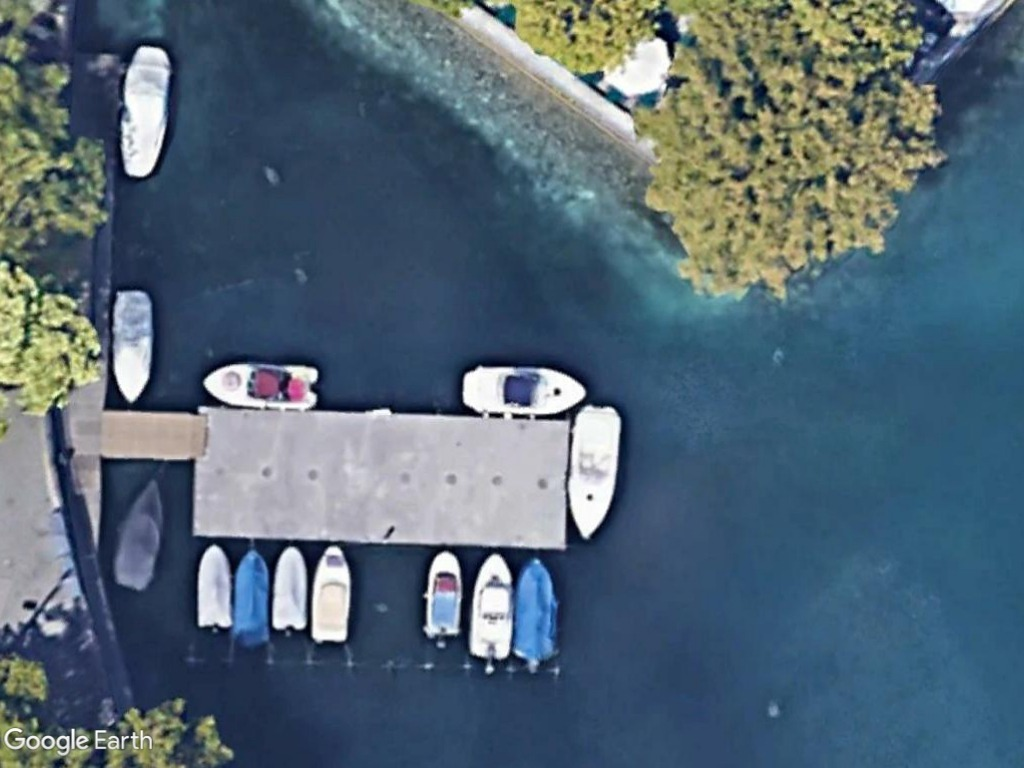boat: (565, 399, 623, 541), (454, 361, 589, 417), (108, 474, 169, 595), (196, 357, 324, 411), (467, 548, 516, 665), (512, 551, 561, 666), (108, 287, 155, 405), (268, 540, 313, 637), (311, 542, 353, 645), (230, 543, 272, 646), (421, 548, 464, 642), (192, 542, 232, 638)
